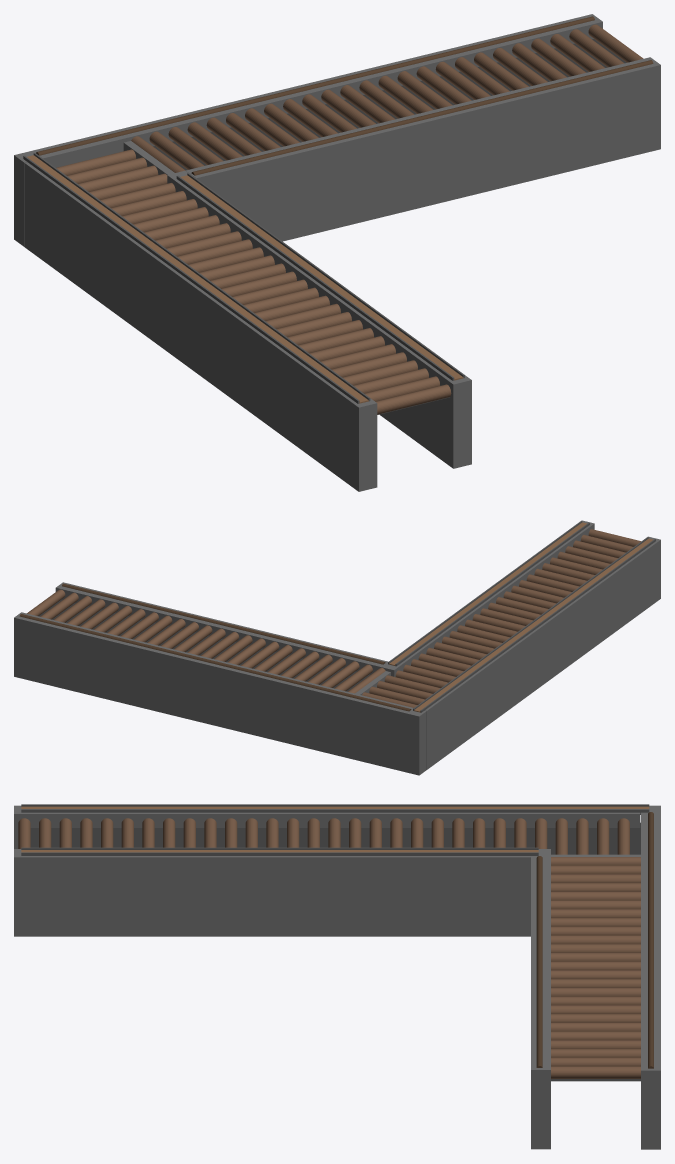
The model's file is conveyor_belt.fbx.
3 renders of one model, top to bottom at view 1: azimuth 30°, elevation 25°; view 2: azimuth 150°, elevation 25°; view 3: azimuth 270°, elevation 25°, orthographic. The views are drawn at different scales.
Parts seen in each view (by area): view 1: belt main, wood cylinder, sup 2, sup 3, sup 1, bc; view 2: belt main, wood cylinder, sup 2, sup 3, sup 1, bc; view 3: belt main, wood cylinder, sup 2, bc, sup 1, sup 3.
Part boxes in pixels (<box>): belt main: <box>14,14,660,491</box>; wood cylinder: <box>56,24,643,414</box>; sup 2: <box>23,153,464,403</box>; sup 3: <box>36,16,653,175</box>; sup 1: <box>27,155,463,403</box>; bc: <box>153,39,626,414</box>; belt main: <box>14,520,660,775</box>; wood cylinder: <box>27,529,640,707</box>; sup 2: <box>388,521,655,712</box>; sup 3: <box>19,583,411,711</box>; sup 1: <box>389,522,653,712</box>; bc: <box>39,599,369,691</box>; belt main: <box>14,805,660,1149</box>; wood cylinder: <box>18,818,640,1078</box>; sup 2: <box>21,804,649,855</box>; bc: <box>30,822,640,1081</box>; sup 1: <box>21,806,649,852</box>; sup 3: <box>536,812,653,1068</box>.
Bounding box in the file's own units: 606 × 87.51 × 626.
